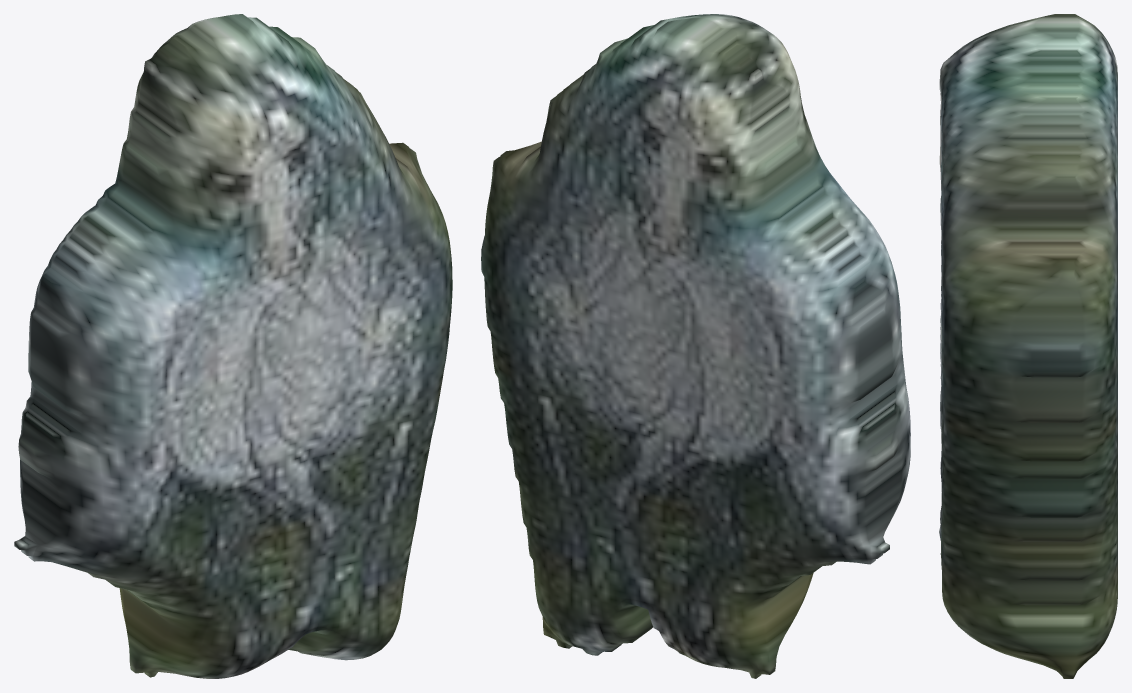
Rendered from eden-horse.glb.
3 renders of one model, left to right at view 1: azimuth 30°, elevation 25°; view 2: azimuth 150°, elevation 25°; view 3: azimuth 270°, elevation 25°, orthographic. The views are drawn at different scales.
Visible parts, largest first — view 1: eden-horse; view 2: eden-horse; view 3: eden-horse.
Part boxes in pixels (bbox=[...]): eden-horse: bbox=[14, 14, 452, 678]; eden-horse: bbox=[481, 14, 910, 678]; eden-horse: bbox=[939, 14, 1117, 678].
Bounding box in the file's own units: 0.7942 × 1.22 × 0.3329.
1 material, 1 textured.
